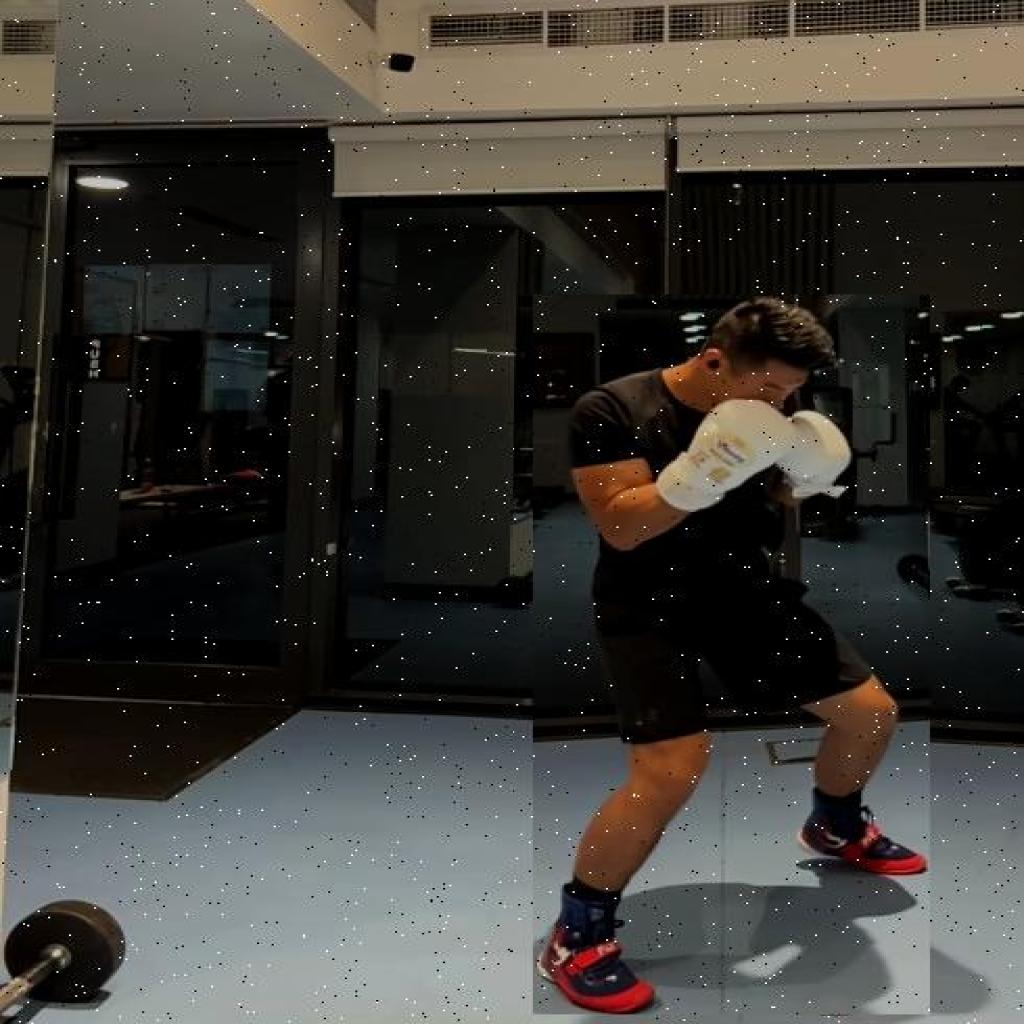no punch: (533, 294, 930, 1014)
